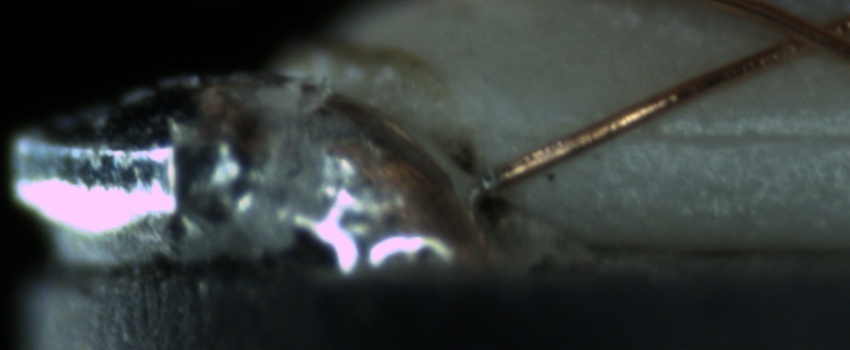CL: (757, 2, 844, 65)
DL: (576, 103, 843, 171)
